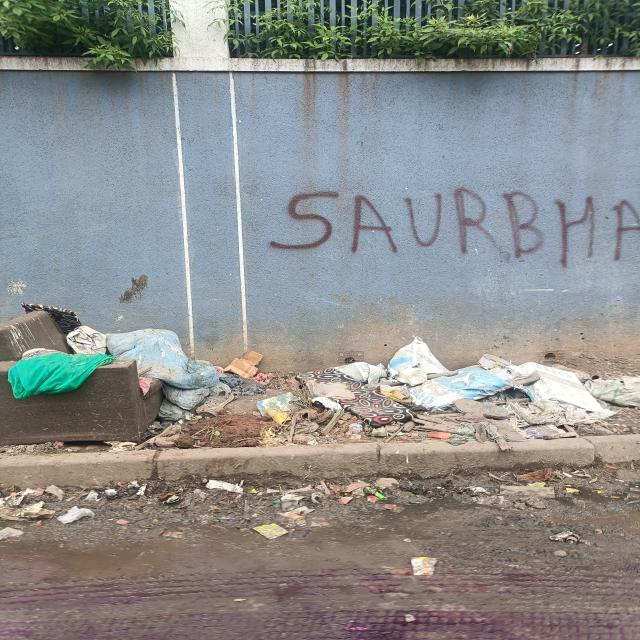garbage: (3, 312, 340, 454), (341, 342, 601, 443)
